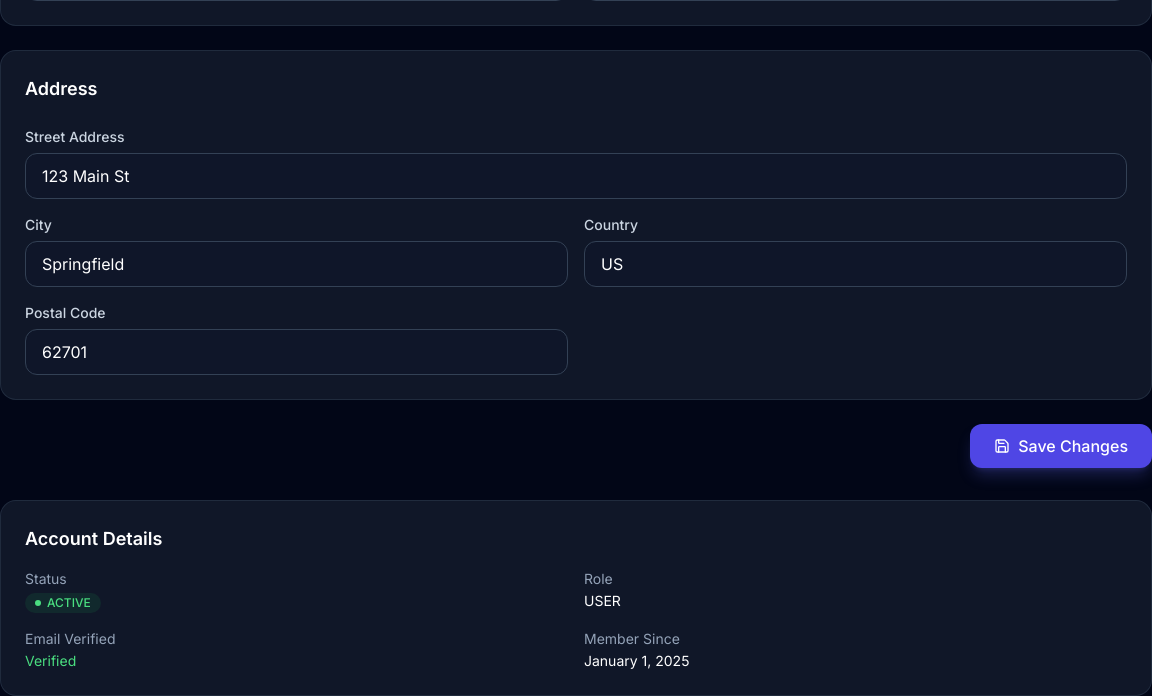
Test: ProfileTab › shows success message after saving
(page scrolled)
Step 1. Click the button "Save Changes" → x=1061, y=446, box left=970, top=424, right=1151, bottom=468
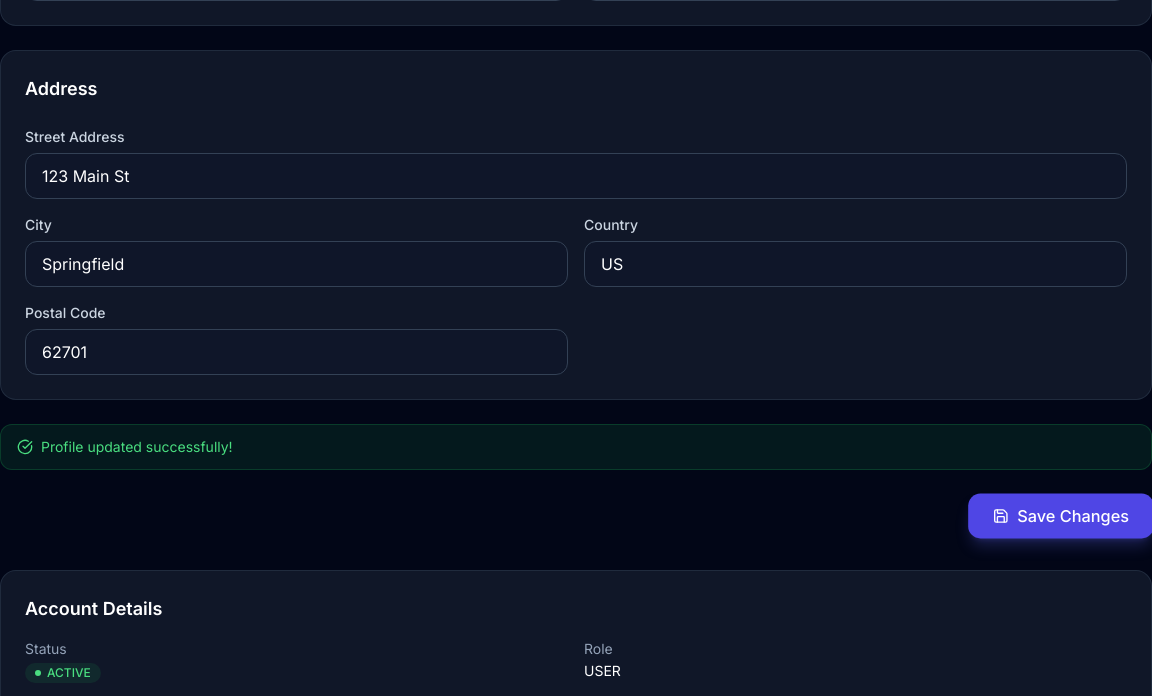
Now the text "Profile updated successfully!" is shown, box left=0, top=424, right=1151, bottom=470
